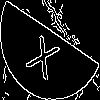X: (25, 25, 65, 81)
